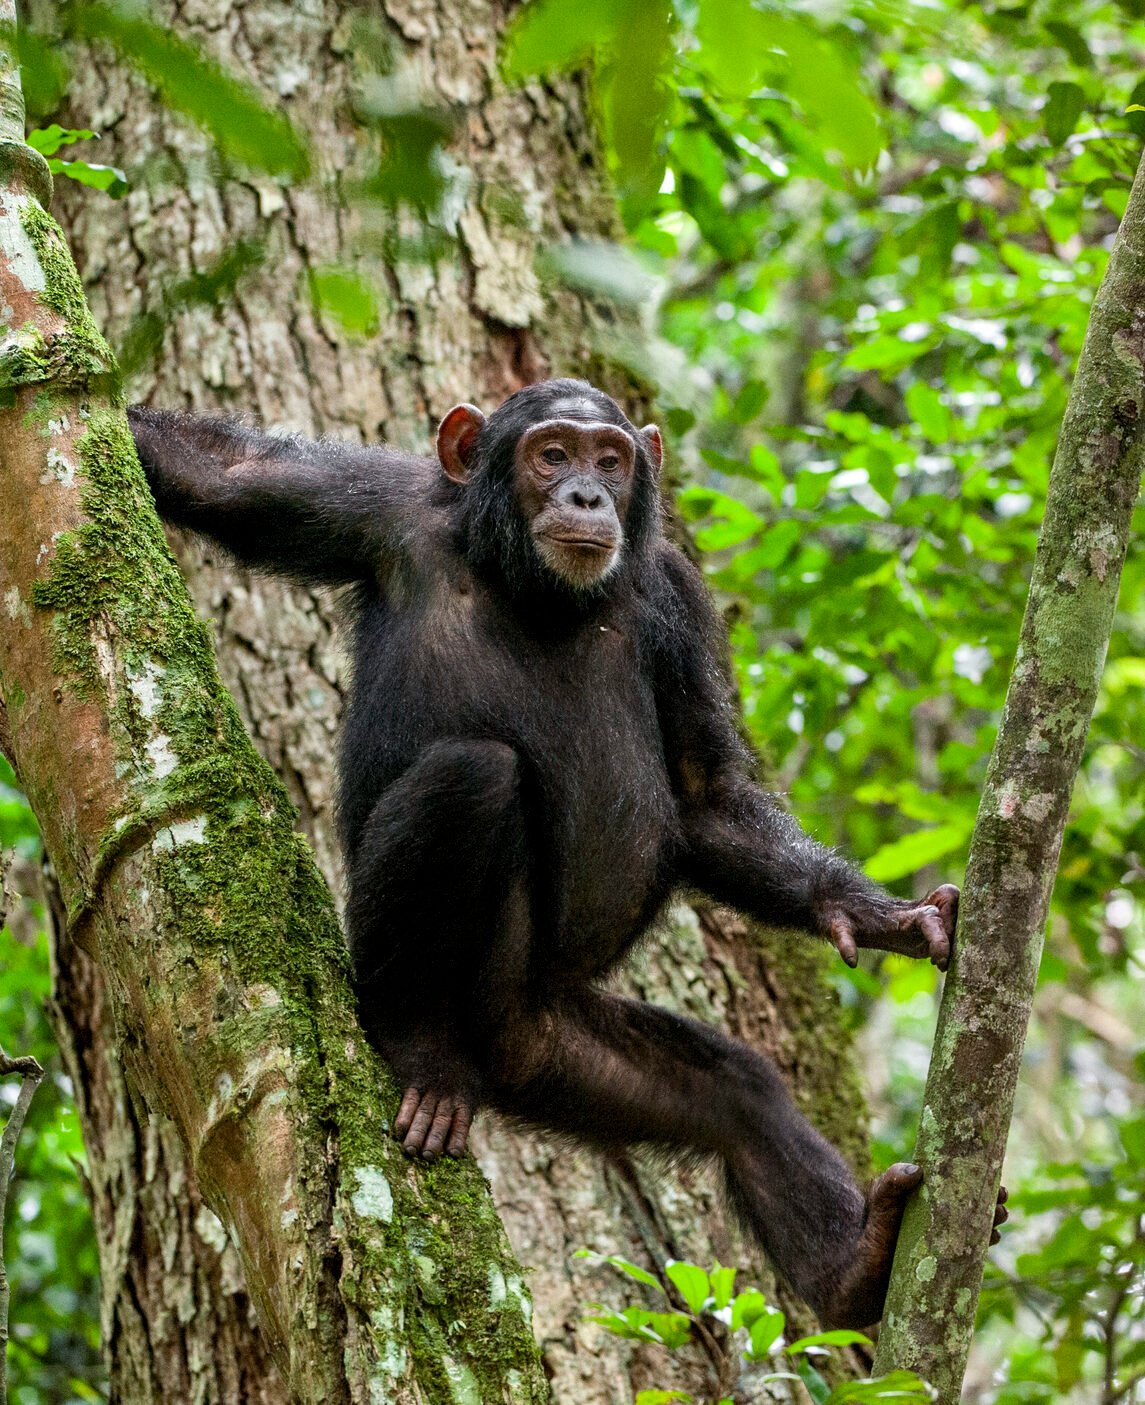Champanze: (331, 350, 962, 1323)
